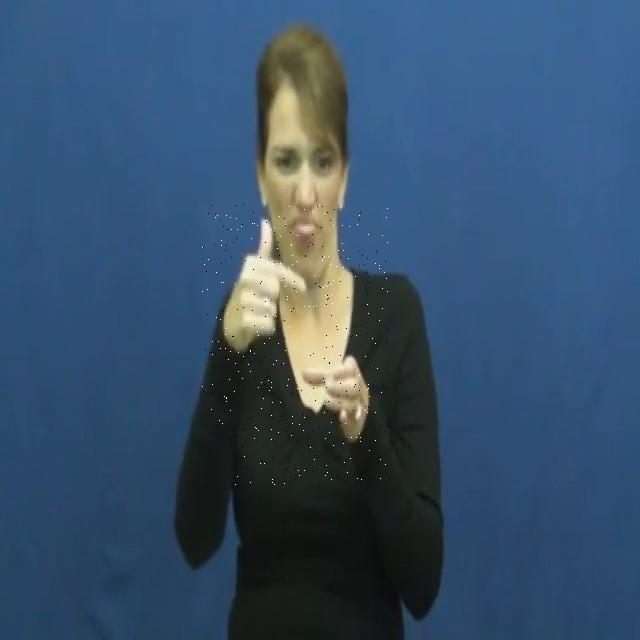straw: (202, 204, 388, 485)
